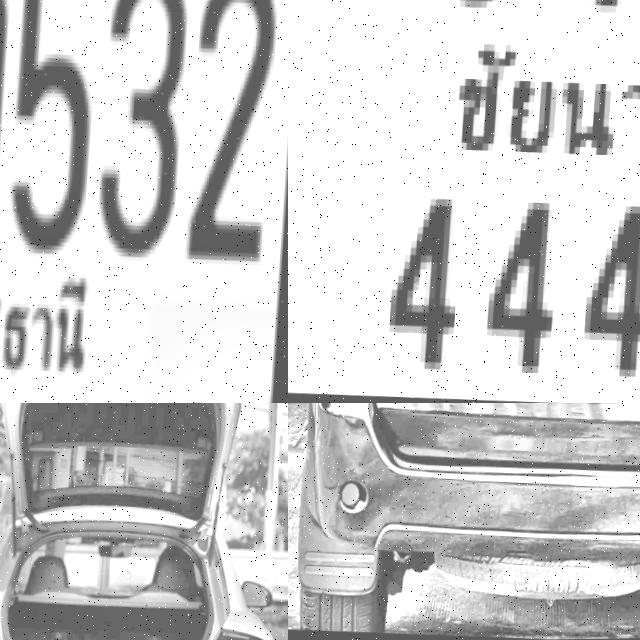license-plate: (288, 0, 640, 403), (0, 0, 288, 403)
